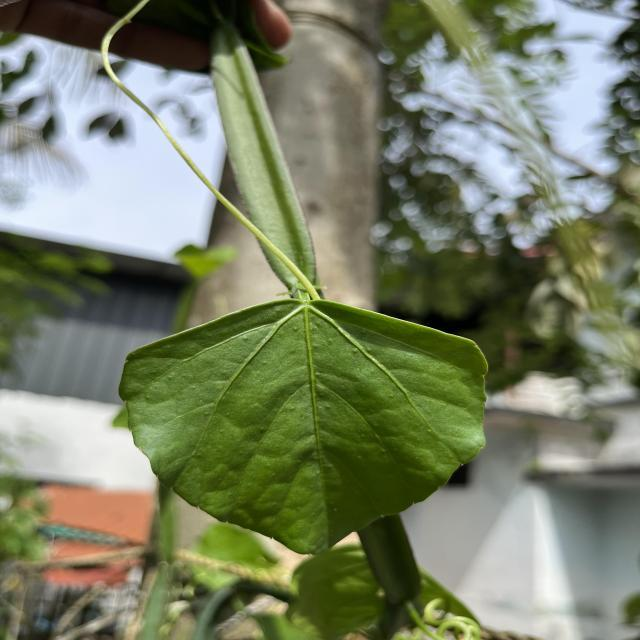Cissus quadrangularis: (118, 294, 494, 559)
